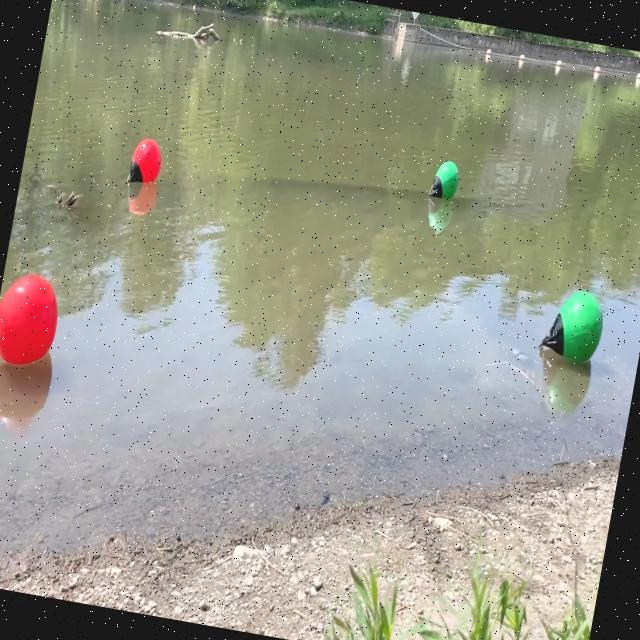buoy: (0, 265, 68, 376), (538, 282, 610, 371), (126, 135, 167, 194), (426, 156, 464, 204)
